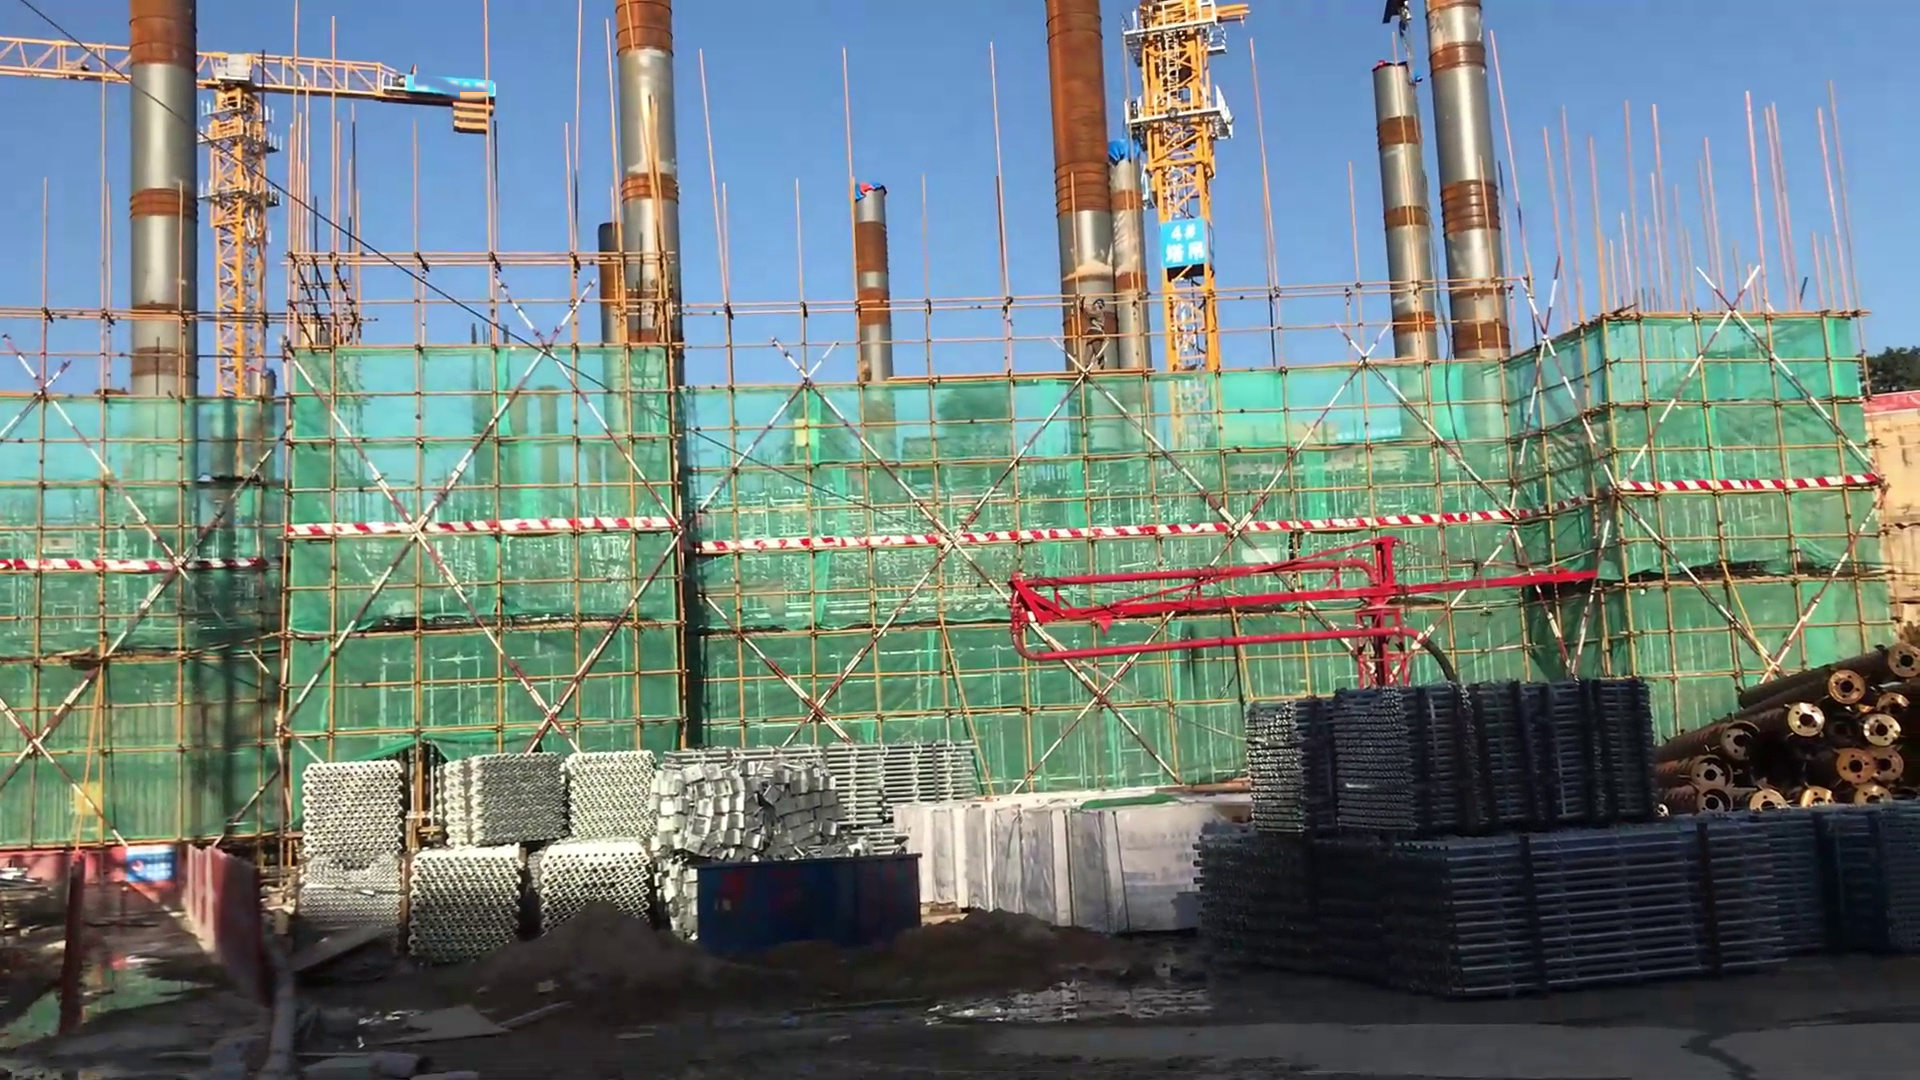fence: (41, 820, 272, 1000)
hopper: (684, 837, 928, 945)
scaffold: (1182, 806, 1706, 984), (1331, 675, 1647, 824), (512, 819, 671, 934), (396, 844, 529, 971), (447, 738, 582, 860), (1238, 702, 1338, 822), (299, 764, 411, 862), (822, 735, 953, 818), (556, 748, 647, 833)
